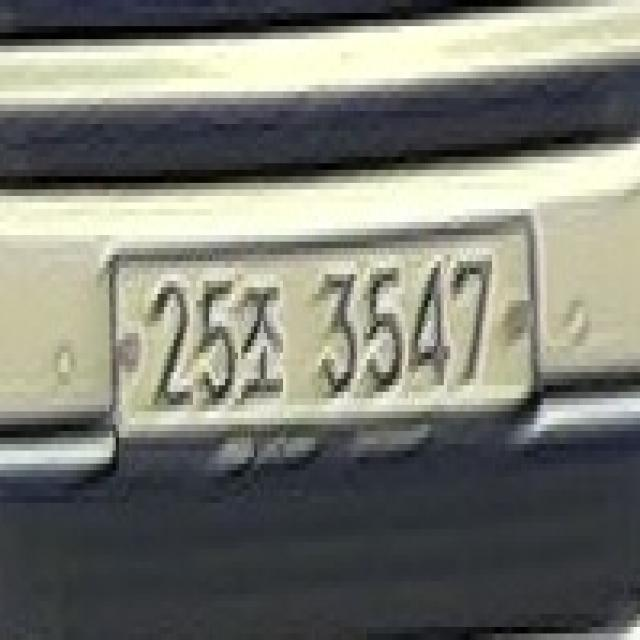2: (146, 270, 196, 412)
3: (320, 260, 360, 404)
4: (408, 245, 452, 392)
5: (364, 250, 408, 396), (198, 262, 238, 408)
7: (456, 240, 500, 394)
jo: (242, 276, 292, 408)
license_plate: (114, 215, 536, 435)
